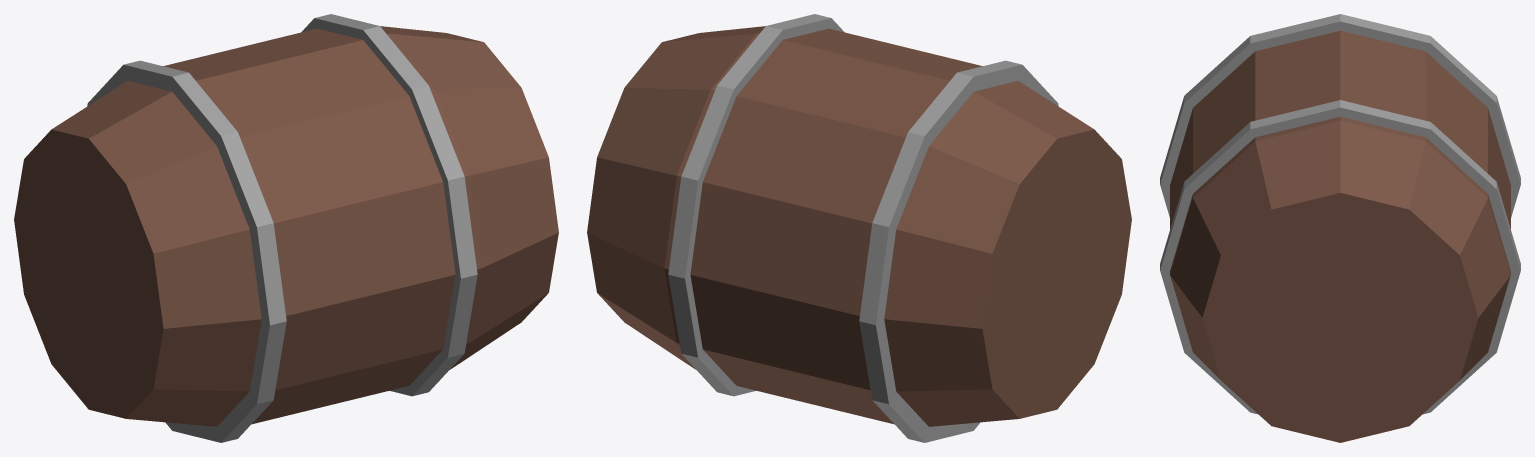
Rendered from barrel.glb.
3 views of the same model, side by side, from view 1: azimuth 30°, elevation 25°; view 2: azimuth 150°, elevation 25°; view 3: azimuth 270°, elevation 25° (orthographic). The views are drawn at different scales.
Visible parts, largest first — view 1: group1553273990, group326118860, group1622940438; view 2: group1553273990, group326118860, group1622940438; view 3: group1553273990, group1622940438, group326118860.
Boxes of the visible parts, x1,y1,x2,y2 form: group1553273990: (14,26,558,426); group326118860: (87,60,286,442); group1622940438: (301,14,477,396); group1553273990: (587,26,1131,426); group326118860: (859,60,1058,442); group1622940438: (668,14,844,396); group1553273990: (1170,30,1510,442); group1622940438: (1160,100,1520,414); group326118860: (1160,14,1520,217).
Size of the model in its own units: 0.6308 by 0.54 by 0.54.
